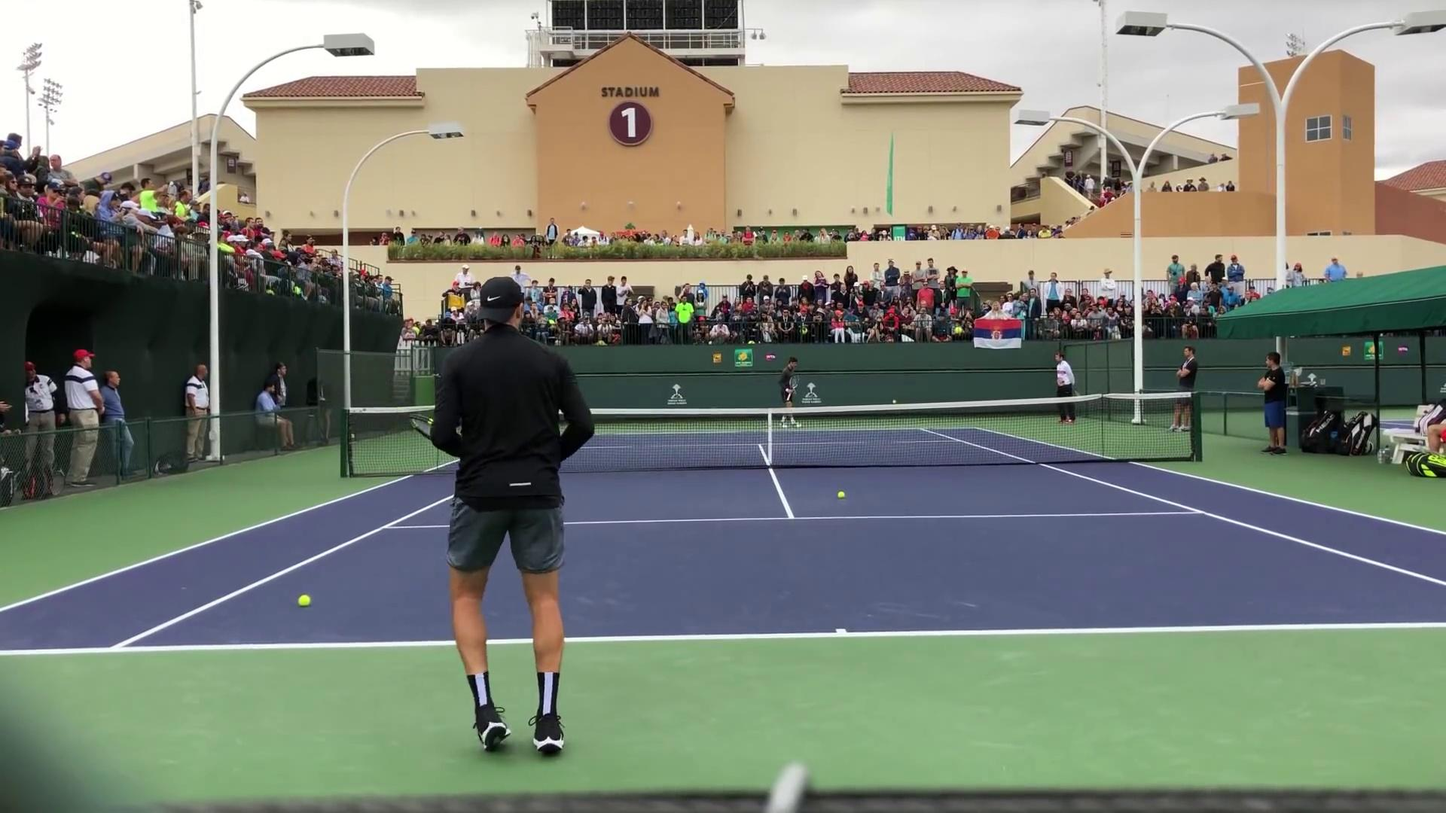ball: (296, 594, 311, 607), (834, 488, 847, 501)
